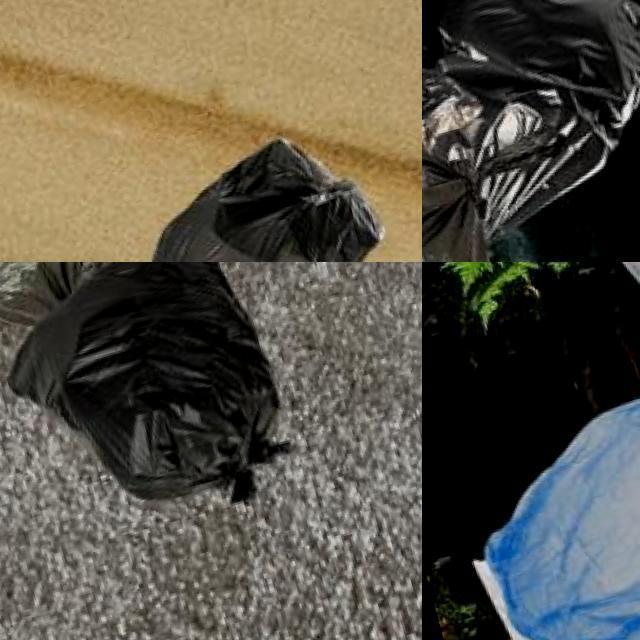waste: (0, 262, 310, 540), (463, 343, 640, 640), (422, 0, 640, 236), (124, 121, 411, 262), (422, 91, 528, 262), (0, 262, 199, 330)
